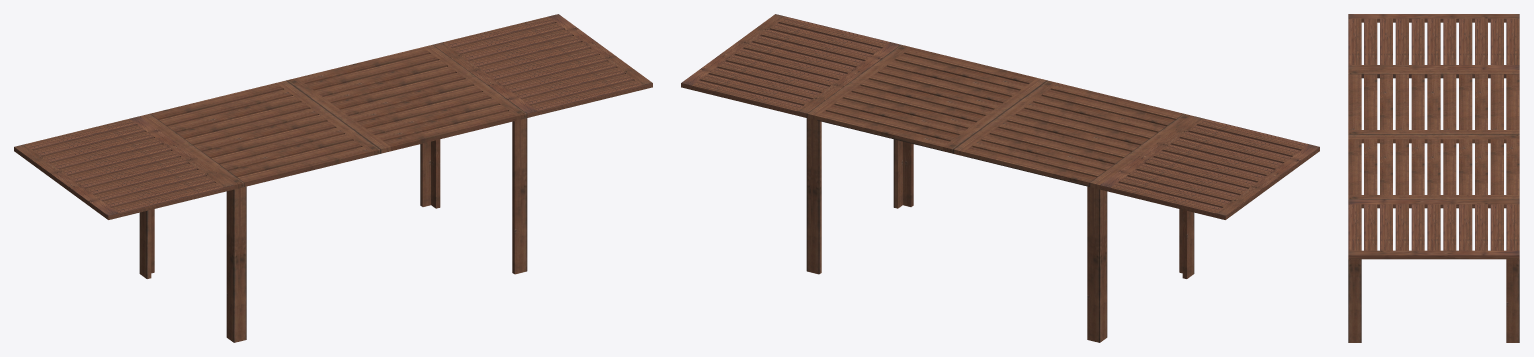
The model's file is sweethome3d-contributions-drop-leaf-table-500.glb.
The picture shows the model from 3 angles, left to right: view 1: azimuth 30°, elevation 25°; view 2: azimuth 150°, elevation 25°; view 3: azimuth 270°, elevation 25°; orthographic projection. The views are drawn at different scales.
Visible parts, largest first — view 1: table, sweethome3d_opening_on_hinge_1_Drop_leaf_A_right_76_216, sweethome3d_opening_on_hinge_2_Drop_leaf_B_right_160_291; view 2: table, sweethome3d_opening_on_hinge_1_Drop_leaf_A_right_76_216, sweethome3d_opening_on_hinge_2_Drop_leaf_B_right_160_291; view 3: table, sweethome3d_opening_on_hinge_2_Drop_leaf_B_right_160_291, sweethome3d_opening_on_hinge_1_Drop_leaf_A_right_76_216.
Boxes of the visible parts, x1,y1,x2,y2 form: table: (139, 44, 527, 342); sweethome3d_opening_on_hinge_1_Drop_leaf_A_right_76_216: (14, 116, 233, 219); sweethome3d_opening_on_hinge_2_Drop_leaf_B_right_160_291: (433, 14, 652, 117); table: (806, 44, 1194, 342); sweethome3d_opening_on_hinge_1_Drop_leaf_A_right_76_216: (1100, 116, 1319, 219); sweethome3d_opening_on_hinge_2_Drop_leaf_B_right_160_291: (681, 14, 900, 117); table: (1348, 69, 1519, 342); sweethome3d_opening_on_hinge_2_Drop_leaf_B_right_160_291: (1348, 199, 1519, 259); sweethome3d_opening_on_hinge_1_Drop_leaf_A_right_76_216: (1348, 14, 1519, 69).
Size of the model in its own units: 260 by 72 by 78.
5 materials, 3 textured.
